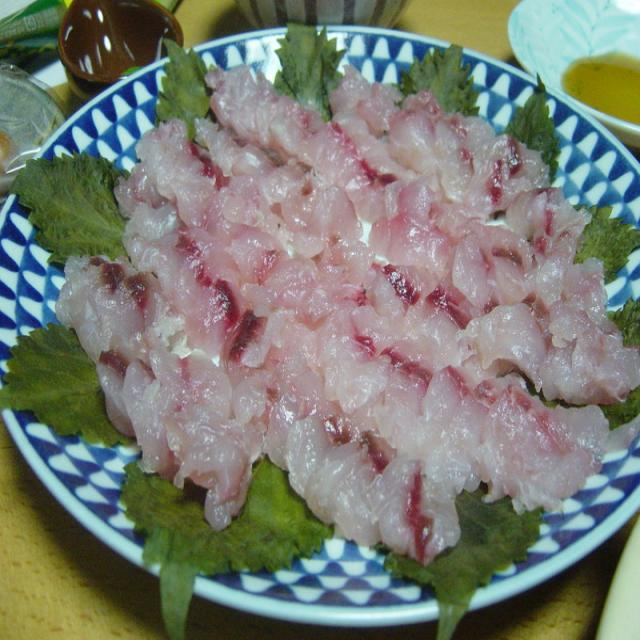刺身生食: (30, 0, 639, 597)
